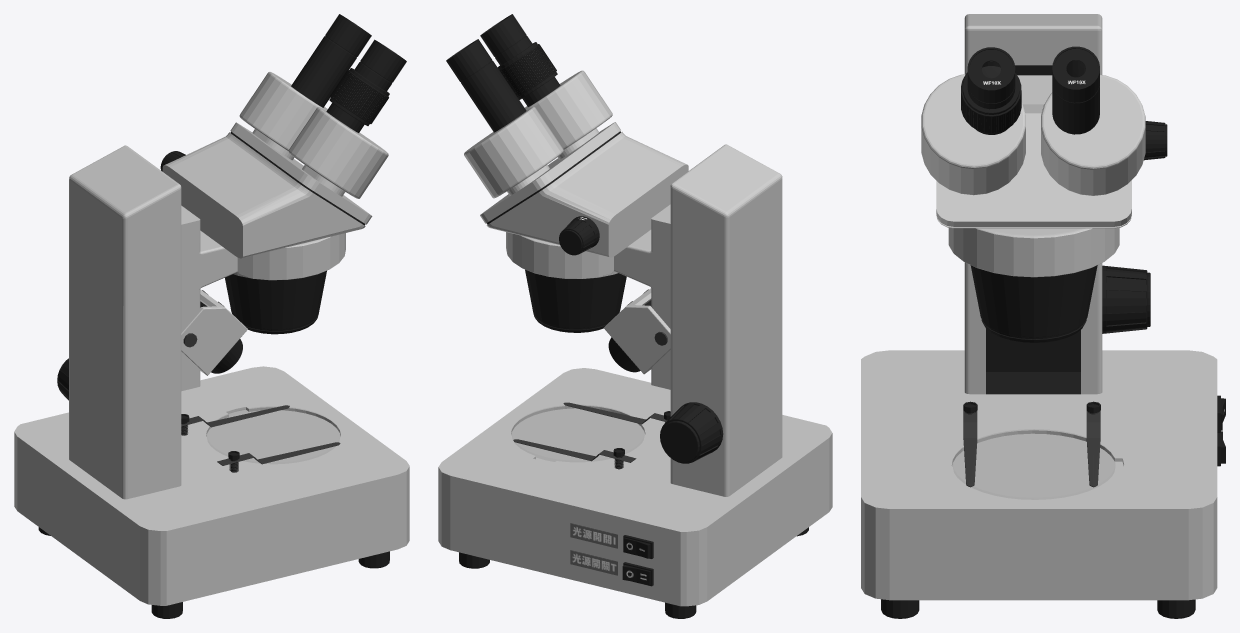
File: 解剖顯微鏡.fbx
The picture shows the model from 3 angles, left to right: view 1: azimuth 30°, elevation 25°; view 2: azimuth 150°, elevation 25°; view 3: azimuth 270°, elevation 25°; orthographic projection. The views are drawn at different scales.
Parts seen in each view (by area): view 1: 鏡臂鏡座, top機台, down機台, 載物臺, L_眼距調整器, 物鏡, R_目鏡, R_眼距調整器, 光源, 眼焦調整器, L_目鏡, 玻片夾 (+1 smaller); view 2: 鏡臂鏡座, top機台, down機台, 載物臺, R_眼距調整器, 物鏡, R_目鏡, L_眼距調整器, 光源, 調節輪_控制器, L_目鏡, 眼焦調整器 (+5 smaller); view 3: 鏡臂鏡座, top機台, R_眼距調整器, down機台, 載物臺, L_眼距調整器, 物鏡, R_目鏡, 調節輪_控制器, L_目鏡, 眼焦調整器, 玻片夾_2 (+2 smaller).
Boxes of the visible parts, bbox=[...] form: 鏡臂鏡座: bbox=[14, 145, 409, 618]; top機台: bbox=[162, 122, 372, 258]; down機台: bbox=[181, 205, 345, 391]; 載物臺: bbox=[207, 407, 339, 463]; L_眼距調整器: bbox=[288, 107, 388, 198]; 物鏡: bbox=[225, 270, 326, 334]; R_目鏡: bbox=[291, 14, 371, 107]; R_眼距調整器: bbox=[239, 72, 327, 150]; 光源: bbox=[181, 289, 247, 375]; 眼焦調整器: bbox=[329, 68, 389, 125]; L_目鏡: bbox=[326, 39, 406, 132]; 玻片夾: bbox=[217, 442, 340, 465]; 鏡臂鏡座: bbox=[438, 144, 832, 618]; top機台: bbox=[480, 122, 688, 257]; down機台: bbox=[506, 204, 670, 389]; 載物臺: bbox=[512, 405, 643, 461]; R_眼距調整器: bbox=[464, 107, 563, 198]; 物鏡: bbox=[525, 269, 626, 332]; R_目鏡: bbox=[446, 39, 526, 132]; L_眼距調整器: bbox=[525, 70, 612, 149]; 光源: bbox=[604, 288, 670, 374]; 調節輪_控制器: bbox=[660, 402, 723, 463]; L_目鏡: bbox=[480, 14, 560, 106]; 眼焦調整器: bbox=[497, 42, 557, 99]; 鏡臂鏡座: bbox=[861, 14, 1217, 618]; top機台: bbox=[936, 104, 1131, 228]; R_眼距調整器: bbox=[1041, 75, 1145, 195]; down機台: bbox=[948, 75, 1119, 277]; 載物臺: bbox=[953, 429, 1114, 499]; L_眼距調整器: bbox=[921, 74, 1025, 195]; 物鏡: bbox=[970, 265, 1097, 342]; R_目鏡: bbox=[1052, 46, 1099, 134]; 調節輪_控制器: bbox=[1102, 265, 1150, 333]; L_目鏡: bbox=[967, 47, 1015, 134]; 眼焦調整器: bbox=[961, 66, 1021, 133]; 玻片夾_2: bbox=[1086, 411, 1100, 487].
Size of the model in its own units: 44.91 by 67.84 by 38.09.
12 materials, 7 textured.
